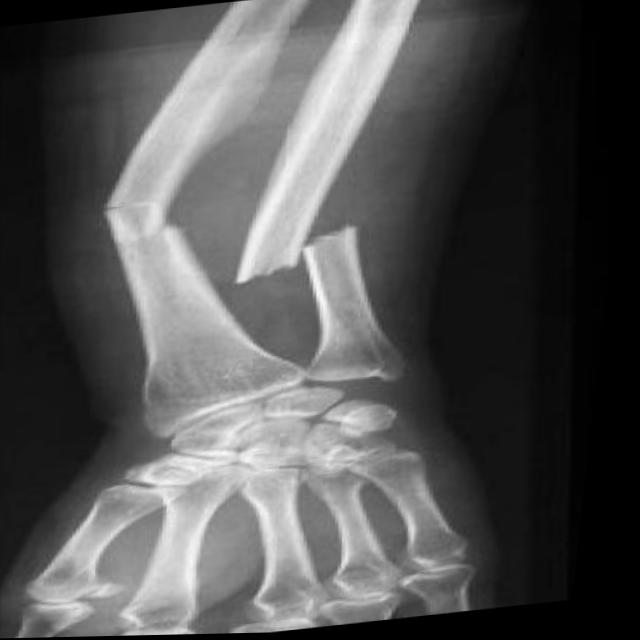fracture: (233, 218, 386, 295), (72, 186, 204, 253)
